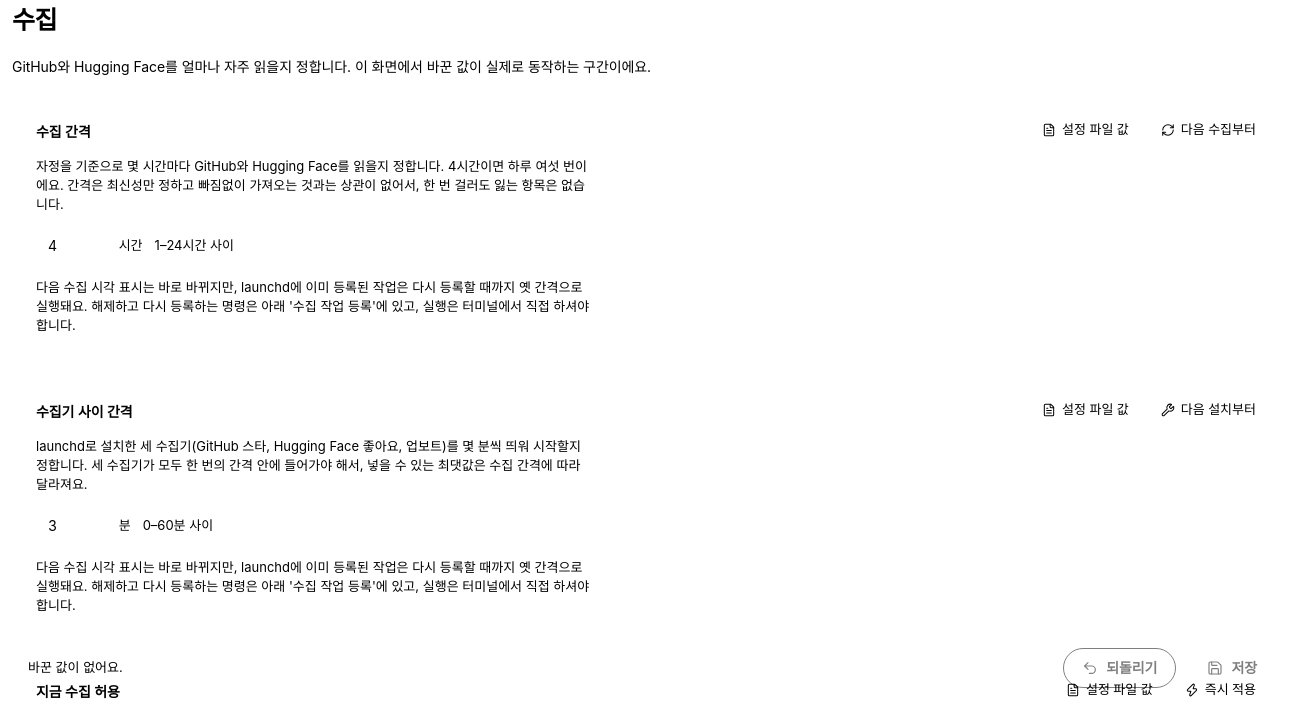
Saving › shows the service's own words when a change is refused
The image size is (1292, 704).
Replace the text in the number field labelled "수집 간격" with "1" at (71, 246), box [36, 226, 107, 266]
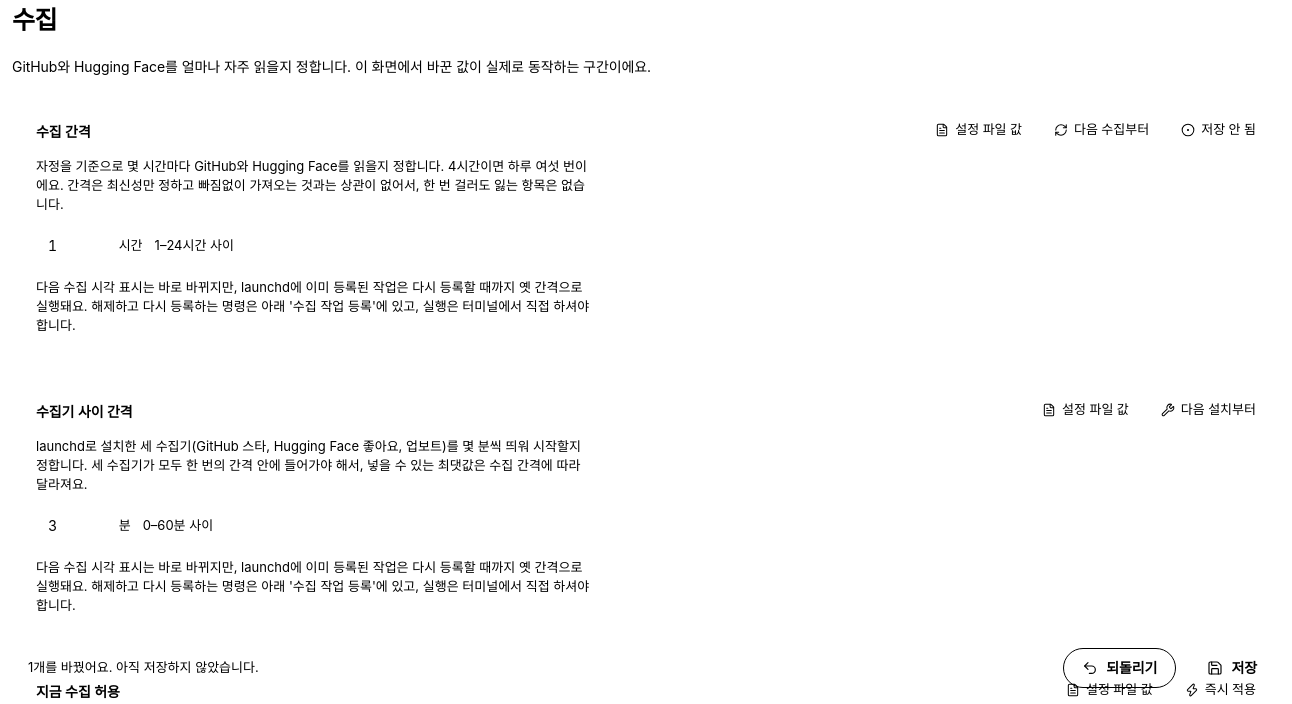
Click the button "저장".
click(1232, 668)  # box [1188, 648, 1276, 688]
(page scrolled)
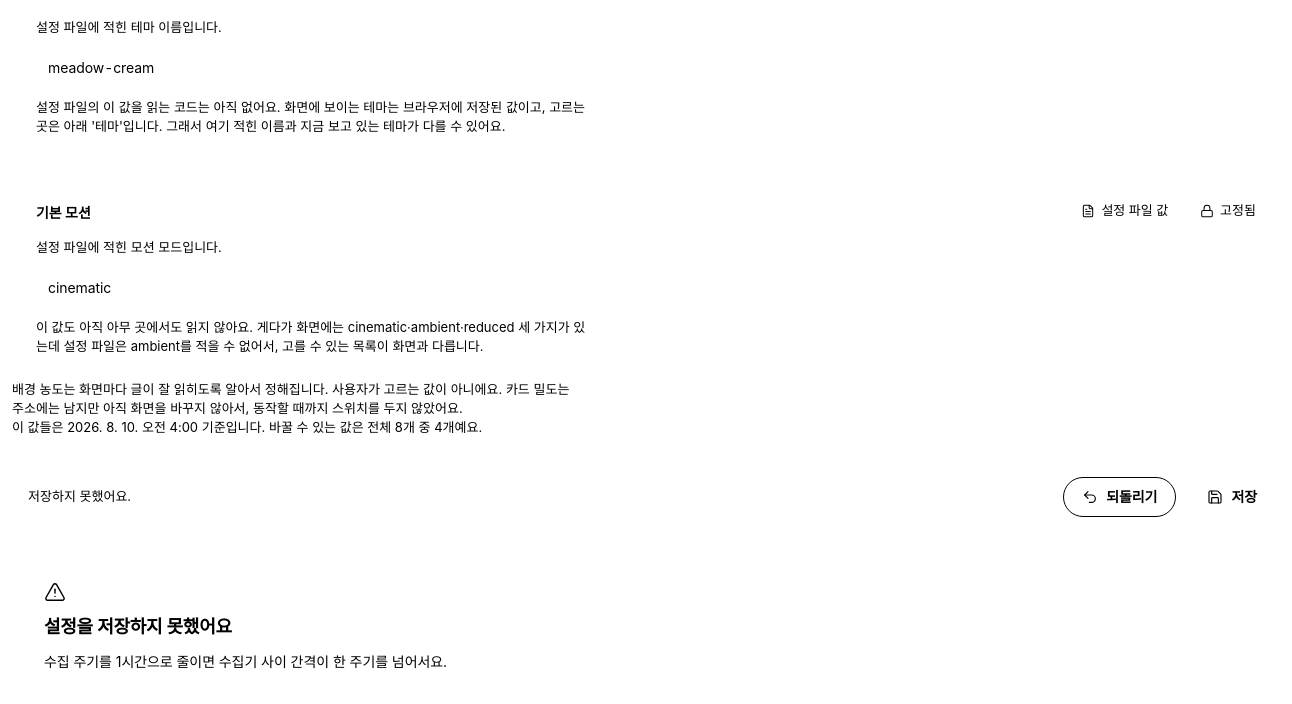
Now the text "수집 주기를 1시간으로 줄이면 수집기 사이 간격이 한 주기를 넘어서요." is shown, box [44, 650, 447, 672]
